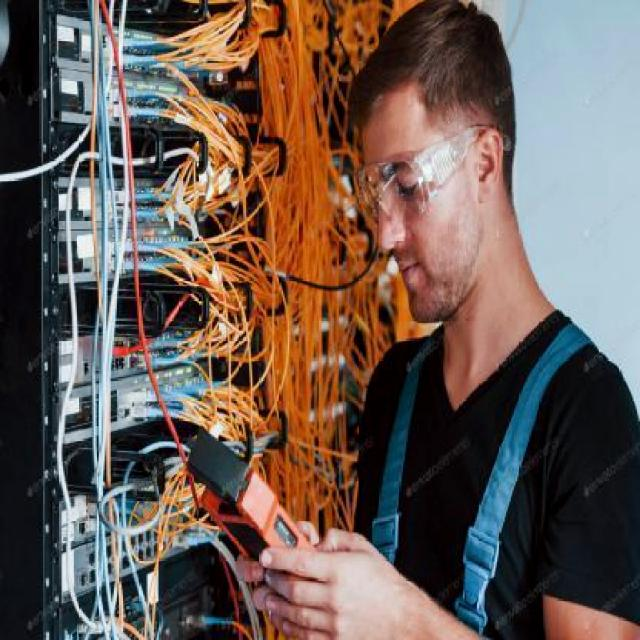face_nomask: (355, 156, 448, 302)
glasses: (349, 136, 448, 241)
hand_noglove: (255, 524, 398, 640)
head_nohelmet: (338, 0, 500, 131)
person: (248, 7, 640, 640)
